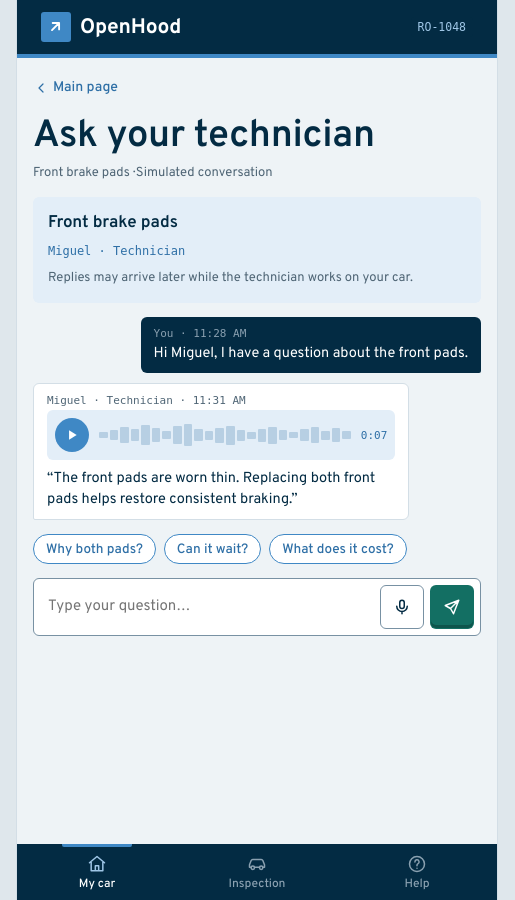
it: a suggested question gets a scripted technician voice reply
Later steps or results of the test are not shown.
What coordinates should you click on to do the following:
click the button "Why both pads?"
I would click on:
 (94, 549)
Its box is 33,534 -> 156,564.
Wait 1300 ms
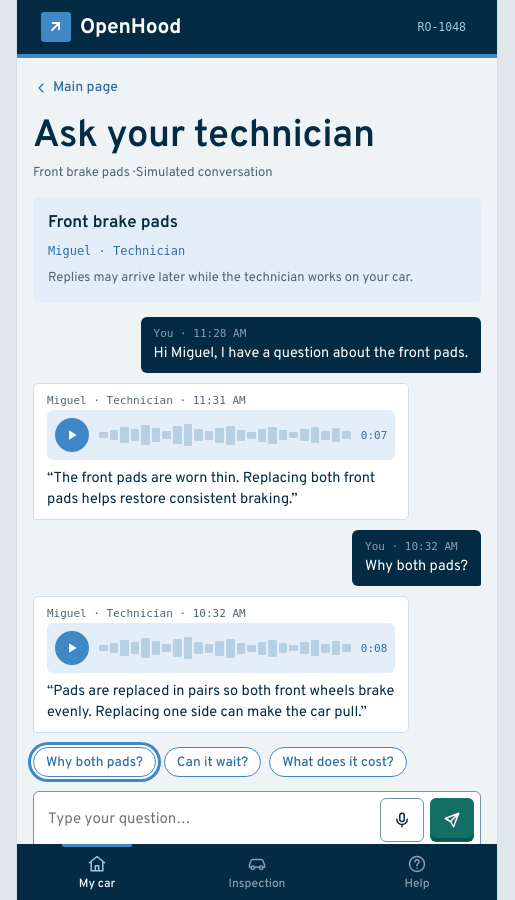
Expected: the text "Why both pads?" is shown, 365,557 -> 468,576
Expected: the text "Pads are replaced in pairs" is shown, 47,682 -> 394,722
